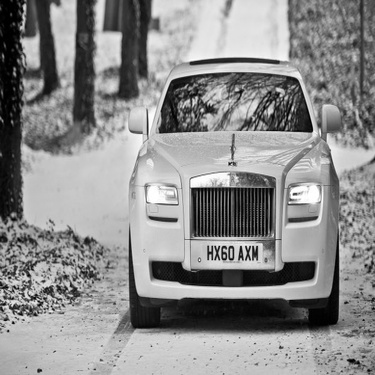car: (110, 47, 354, 334)
